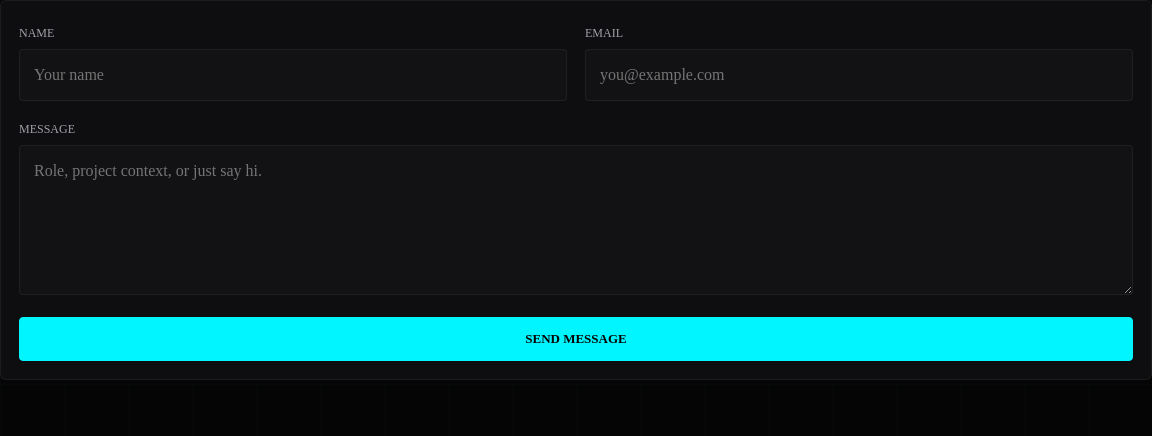
ContactForm › should focus and mark the first empty field when submitted empty
Click the button "Send message" at (576, 339), box [19, 317, 1133, 361]
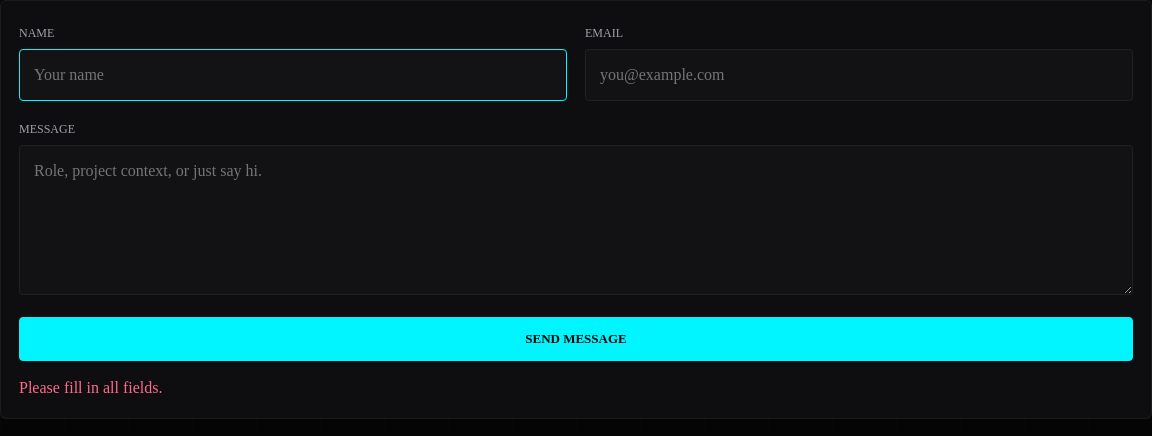
Check: the message reads "Please fill in all fields.", box [19, 379, 162, 396]
